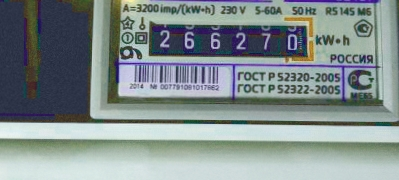0: (284, 31, 298, 51)
2: (157, 27, 171, 48), (234, 30, 247, 50)
6: (182, 28, 194, 50), (208, 30, 221, 49)
7: (260, 30, 270, 49)
screen: (136, 10, 320, 67)
